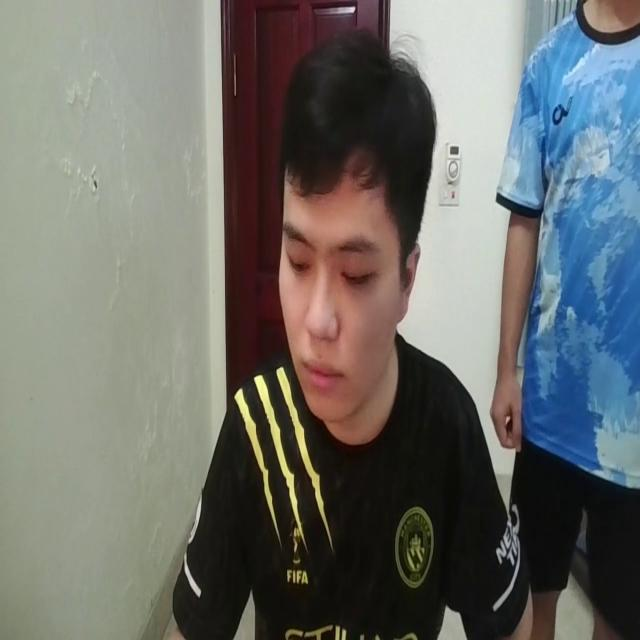extra_person: (482, 1, 640, 640)
student: (136, 31, 530, 640)
